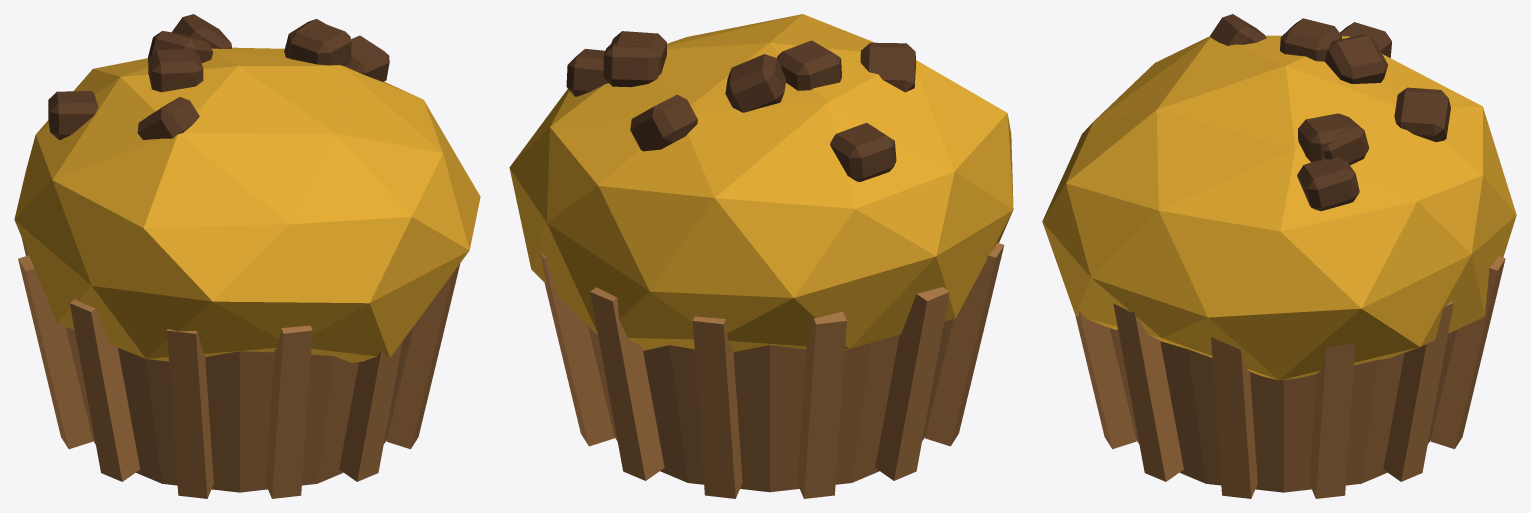
Rendered from muffin.glb.
3 views of the same model, side by side, from view 1: azimuth 30°, elevation 25°; view 2: azimuth 150°, elevation 25°; view 3: azimuth 270°, elevation 25° (orthographic). The views are drawn at different scales.
Visible parts, largest first — view 1: muffin; view 2: muffin; view 3: muffin.
Part boxes in pixels (left/top/right/bottom): muffin: left=14, top=14, right=480, bottom=498; muffin: left=509, top=14, right=1013, bottom=498; muffin: left=1042, top=14, right=1516, bottom=498.
Bounding box in the file's own units: 0.1069 × 0.0957 × 0.1099.
